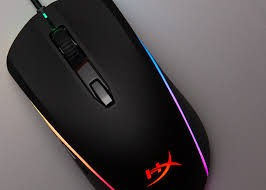mouse: (0, 0, 218, 190)
